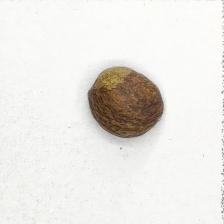NG: (93, 67, 136, 93)
